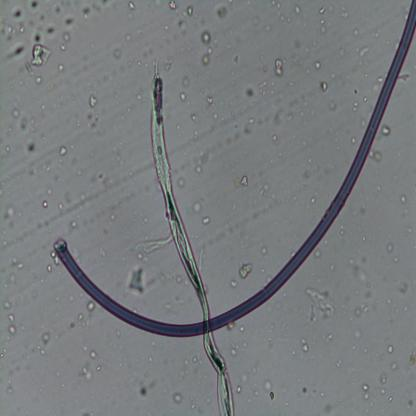Background material: (267, 98, 314, 126), (305, 285, 337, 323), (286, 36, 314, 67), (18, 156, 52, 177), (352, 289, 376, 318), (126, 264, 148, 294), (349, 252, 368, 284), (347, 56, 373, 79), (80, 349, 98, 382), (222, 216, 248, 237), (3, 300, 17, 338), (31, 45, 52, 70), (260, 183, 280, 208), (221, 122, 240, 148), (12, 103, 29, 132), (134, 376, 156, 398), (4, 41, 29, 59), (269, 3, 291, 23), (109, 138, 124, 167), (66, 312, 90, 330), (194, 150, 212, 174), (0, 22, 26, 38), (300, 154, 318, 176), (123, 54, 147, 69), (241, 113, 256, 137), (1, 203, 18, 224), (264, 321, 275, 353), (34, 332, 50, 353), (8, 4, 25, 23), (76, 190, 90, 213), (395, 276, 411, 296), (34, 216, 53, 232), (237, 261, 253, 279), (10, 252, 24, 271), (264, 378, 275, 402), (199, 28, 212, 48), (262, 80, 278, 96), (239, 367, 254, 384), (355, 43, 372, 58), (201, 46, 213, 67), (189, 198, 203, 216), (273, 57, 285, 78), (406, 346, 416, 369), (356, 200, 368, 219), (387, 358, 402, 373), (368, 148, 384, 162), (177, 16, 188, 36), (94, 170, 108, 185), (215, 4, 229, 19), (33, 12, 47, 27), (30, 29, 44, 44), (63, 14, 76, 30), (351, 327, 364, 343), (188, 388, 197, 411), (244, 83, 256, 100), (90, 0, 108, 11), (300, 336, 311, 354), (24, 140, 38, 154), (404, 366, 416, 382), (6, 275, 18, 291), (239, 233, 247, 256), (45, 80, 58, 94), (372, 182, 386, 195), (397, 206, 410, 220), (44, 23, 57, 37), (191, 352, 204, 366), (182, 354, 190, 376), (122, 31, 133, 47), (379, 368, 388, 387), (50, 248, 60, 265), (338, 297, 348, 314), (80, 403, 93, 416), (184, 3, 196, 17), (172, 390, 184, 404), (175, 175, 187, 189), (11, 360, 23, 374), (163, 56, 174, 71), (88, 92, 97, 110), (338, 3, 348, 19), (256, 115, 269, 127), (238, 175, 250, 188), (53, 1, 64, 15), (250, 15, 264, 26), (401, 223, 412, 237), (57, 143, 68, 157), (361, 384, 370, 401), (6, 378, 15, 395), (87, 112, 97, 127), (138, 212, 148, 227), (81, 5, 91, 20), (64, 186, 73, 202), (252, 383, 260, 401), (319, 17, 327, 35), (379, 123, 391, 135), (357, 117, 369, 129), (113, 46, 123, 60), (0, 229, 7, 249), (318, 78, 328, 92), (31, 279, 38, 299), (326, 97, 336, 111), (335, 136, 343, 153), (386, 240, 395, 255), (29, 0, 40, 12), (125, 0, 136, 12), (206, 94, 215, 108), (85, 300, 96, 311), (75, 168, 85, 180), (230, 341, 238, 356), (405, 396, 415, 408), (201, 215, 211, 227), (250, 363, 260, 375), (227, 202, 239, 212), (202, 394, 212, 406), (3, 142, 12, 155), (336, 222, 344, 236), (312, 389, 326, 397), (213, 33, 220, 49), (327, 262, 338, 272), (371, 28, 382, 38), (178, 91, 188, 102), (168, 1, 178, 12), (145, 352, 156, 362), (269, 131, 279, 142), (211, 109, 220, 121), (232, 52, 240, 65), (312, 249, 322, 259), (384, 394, 394, 404), (399, 193, 408, 204), (293, 5, 302, 16), (313, 60, 322, 71), (190, 229, 199, 240), (339, 47, 346, 61), (99, 245, 106, 259), (38, 382, 46, 394), (144, 46, 153, 56), (378, 386, 387, 396), (331, 70, 341, 79), (229, 279, 238, 289), (69, 219, 78, 229), (301, 386, 310, 396), (39, 101, 47, 112), (66, 292, 74, 303), (63, 32, 71, 43), (398, 73, 409, 81), (386, 344, 394, 355), (41, 199, 49, 210), (260, 245, 268, 256), (109, 210, 116, 222), (35, 73, 42, 85), (353, 100, 359, 114), (354, 223, 363, 232), (114, 358, 123, 367), (238, 321, 246, 331), (257, 265, 267, 273), (318, 5, 326, 15), (57, 63, 65, 73), (376, 74, 384, 84), (309, 195, 316, 206), (350, 135, 357, 146), (76, 115, 82, 127), (361, 346, 370, 354), (286, 77, 294, 86), (235, 385, 242, 395), (352, 28, 358, 39), (58, 201, 64, 212), (54, 369, 62, 377), (360, 94, 368, 102), (58, 381, 66, 389), (392, 172, 400, 180), (300, 139, 308, 147), (0, 349, 7, 358), (115, 328, 121, 338), (60, 42, 66, 52), (47, 262, 52, 274), (325, 334, 333, 341), (392, 256, 400, 263), (336, 360, 343, 368), (282, 401, 291, 407), (262, 64, 268, 73), (80, 345, 89, 351), (209, 122, 214, 132), (135, 93, 142, 100), (54, 295, 60, 303), (46, 186, 52, 194), (352, 86, 358, 94), (39, 276, 45, 284), (350, 378, 356, 386), (20, 322, 26, 330), (292, 348, 297, 357), (160, 34, 166, 41), (163, 24, 169, 31), (127, 170, 132, 178), (369, 401, 374, 409), (351, 344, 357, 350), (96, 366, 102, 372), (361, 238, 367, 244), (255, 180, 260, 187), (243, 341, 247, 349), (365, 71, 369, 79), (268, 25, 272, 33), (304, 68, 309, 74), (152, 342, 157, 348), (269, 159, 273, 166)
Cellulose filter fibre: (148, 63, 235, 415)
Microfibre: (57, 1, 416, 336)
